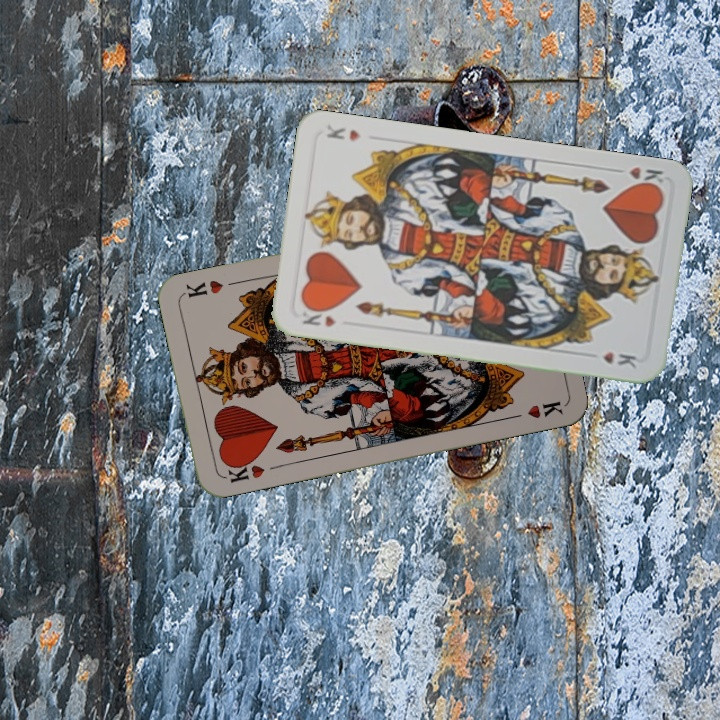HK: (608, 162, 666, 192), (220, 454, 267, 485), (298, 302, 339, 330)
